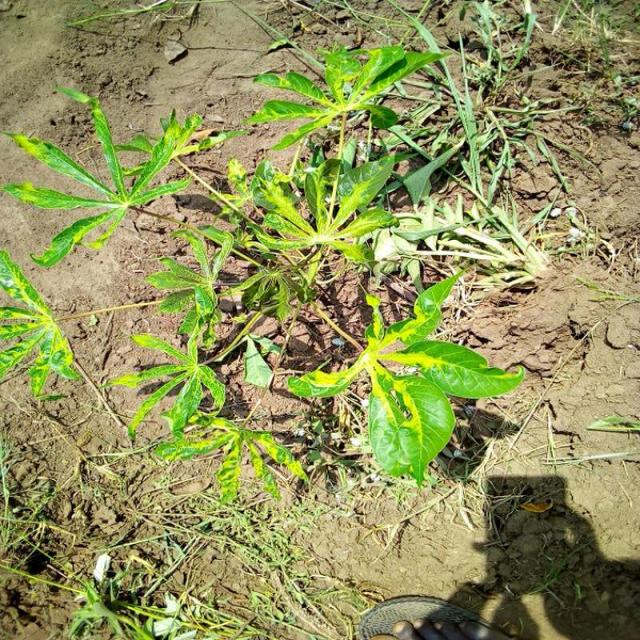cassava leaf: (287, 267, 526, 485), (1, 247, 80, 397), (368, 370, 457, 485)
